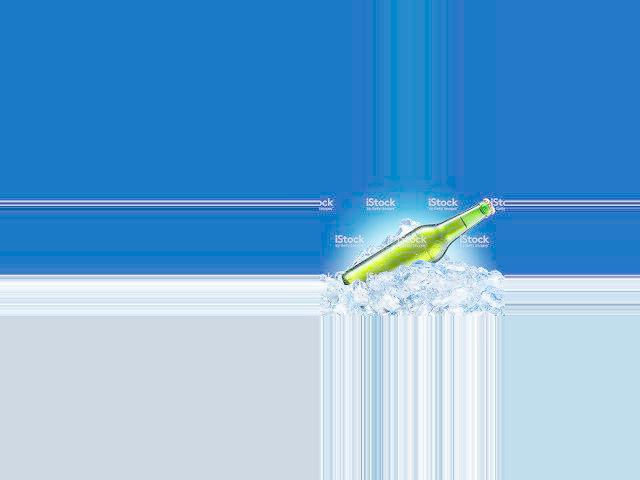beer: (341, 198, 496, 285)
